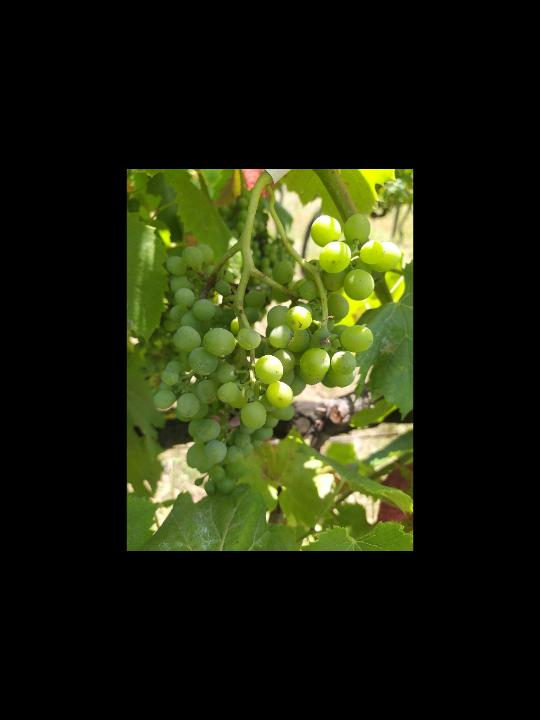grape: (150, 210, 403, 498)
